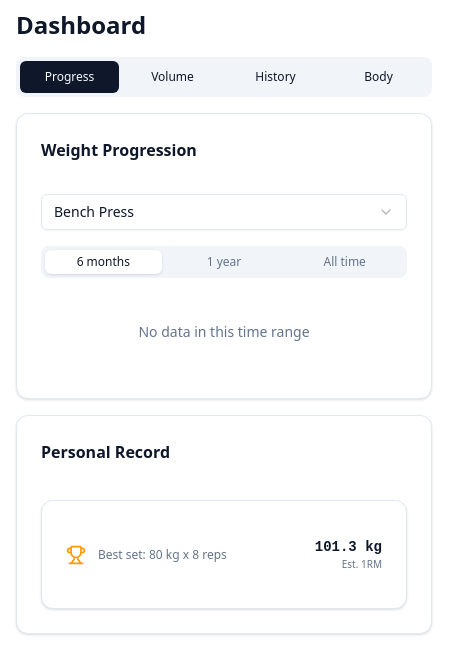
it: Dashboard › switches to Volume tab
The width and height of the screenshot is (449, 652).
Click the button "Volume".
click(172, 77)  # box 123,61 -> 222,93
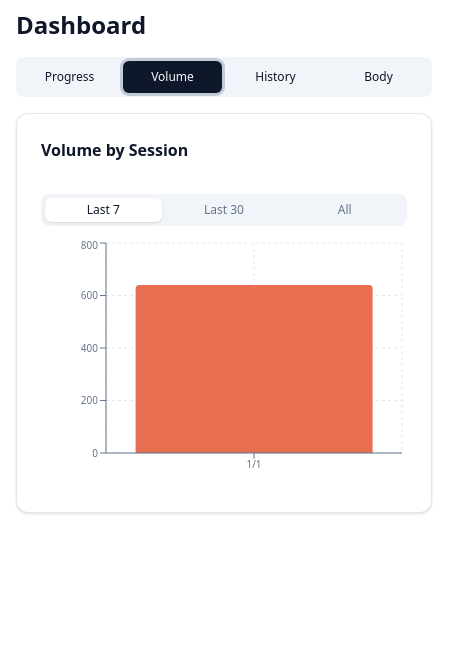
Result: the text "Volume by Session" is shown at 41,139 -> 188,161
